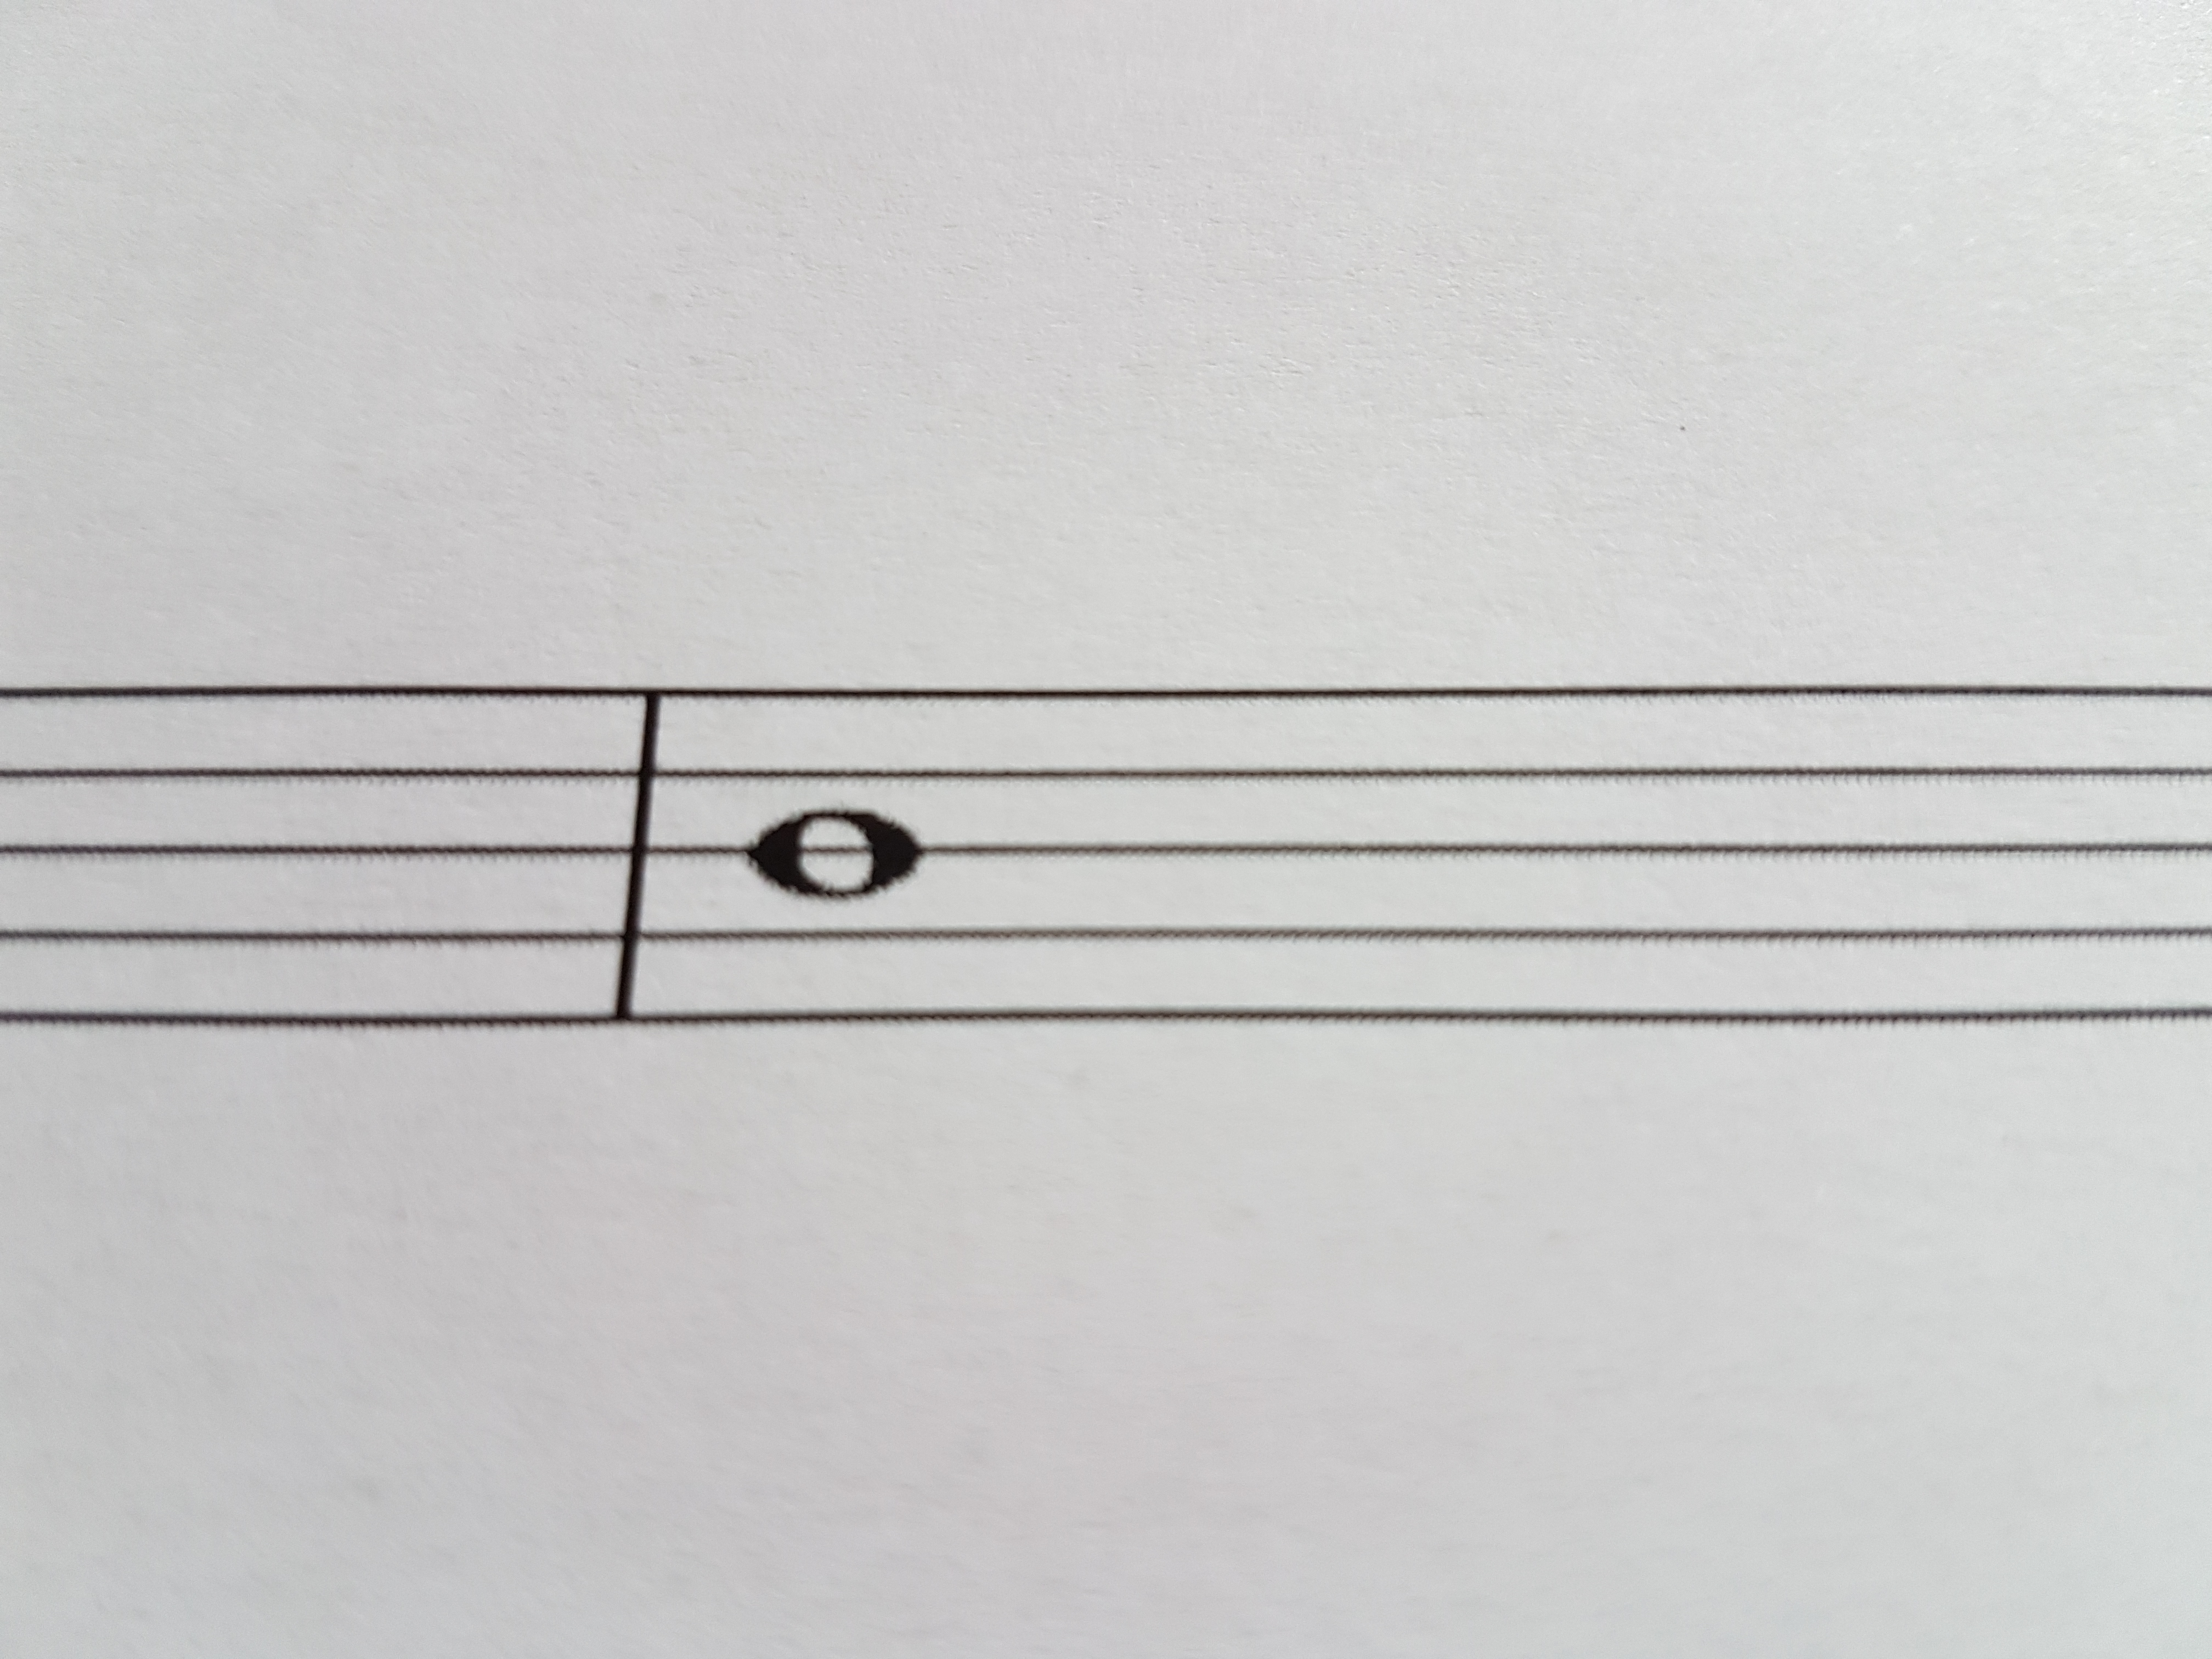pipe: (599, 664, 674, 1058)
semibreve_h: (730, 624, 946, 1105)
